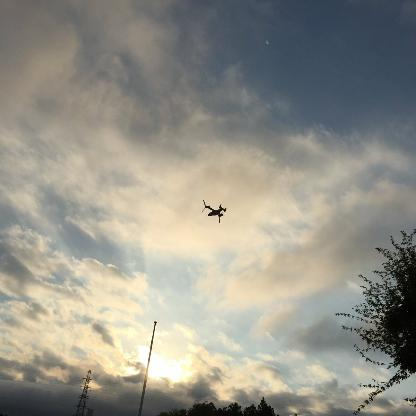Tornado: (201, 199, 226, 222)
